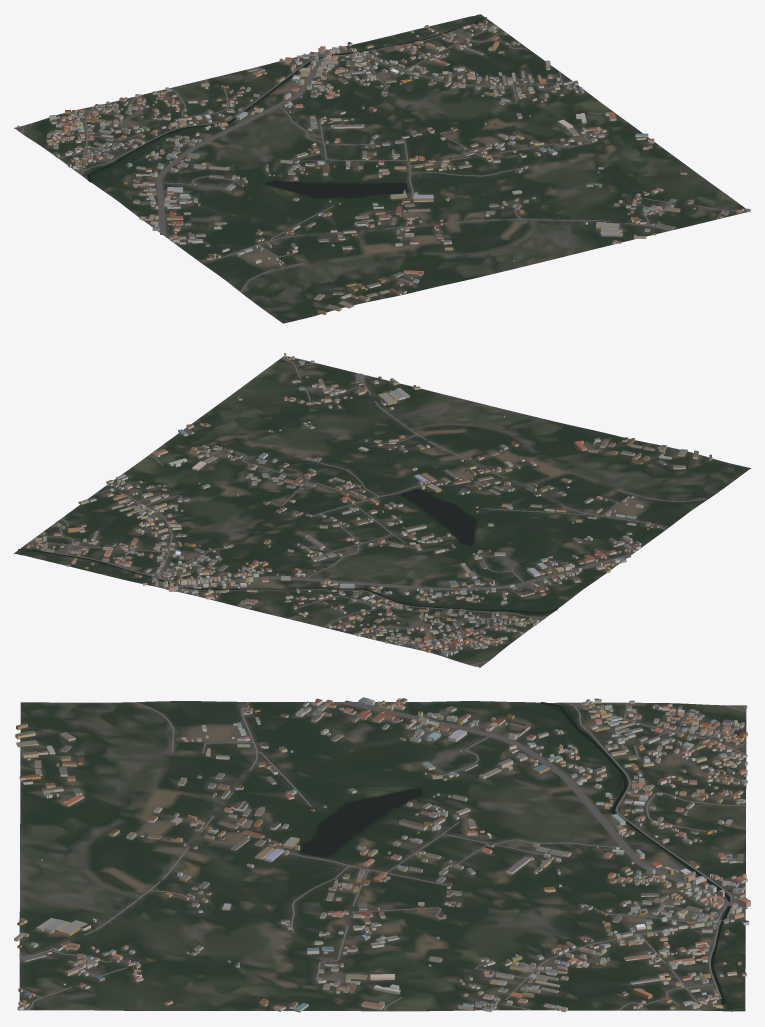
The picture shows the model from 3 angles, top to bottom: view 1: azimuth 30°, elevation 25°; view 2: azimuth 150°, elevation 25°; view 3: azimuth 270°, elevation 25°; orthographic projection. The views are drawn at different scales.
Parts seen in each view (by area): view 1: ground, buildings, roads, water; view 2: ground, buildings, roads, water; view 3: ground, buildings, roads, water.
Part boxes in pixels (x1,y1,x2,y2): ground: [14, 14, 747, 323]; buildings: [17, 19, 750, 314]; roads: [21, 25, 745, 292]; water: [87, 14, 646, 197]; ground: [14, 356, 750, 667]; buildings: [26, 353, 712, 666]; roads: [41, 357, 707, 665]; water: [16, 417, 557, 614]; ground: [19, 701, 746, 1011]; buildings: [14, 697, 750, 1012]; roads: [19, 700, 747, 1011]; water: [216, 702, 745, 1011].
Bounding box in the file's own units: 1416 × 20.32 × 1423.
